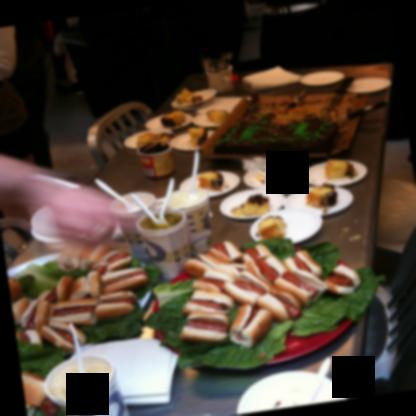handbag: (0, 78, 29, 134)
